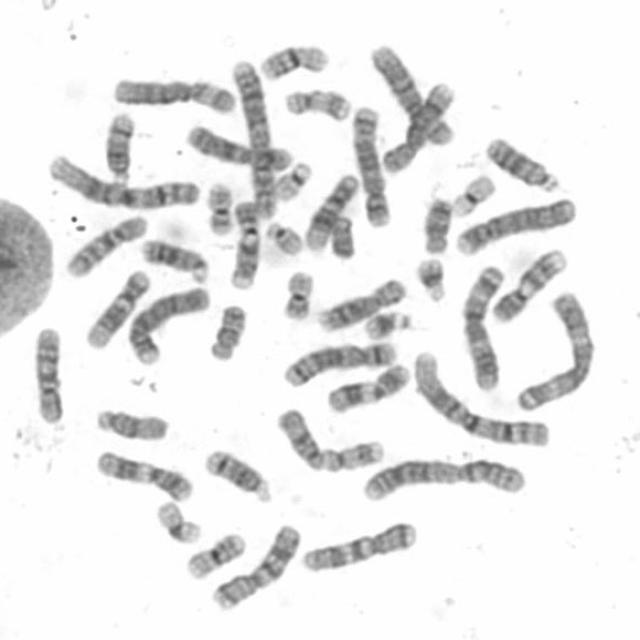A1: (406, 343, 553, 449), (40, 146, 202, 211)
A2: (354, 448, 529, 503), (224, 52, 278, 221)
A3: (509, 284, 597, 412), (454, 258, 508, 392)
B4: (448, 189, 579, 257), (120, 278, 212, 367)
B5: (276, 334, 400, 389), (345, 99, 393, 228)
C10: (57, 208, 150, 280), (26, 318, 68, 426)
C11: (88, 443, 195, 504), (320, 356, 413, 415)
C12: (78, 262, 154, 350), (298, 166, 361, 253)
C6: (363, 35, 457, 147), (105, 70, 238, 116)
C7: (204, 517, 304, 612), (294, 514, 421, 574)
C8: (374, 75, 458, 176), (310, 270, 409, 334)
C9: (486, 240, 570, 324), (222, 194, 262, 293)
D13: (479, 129, 562, 193), (134, 231, 210, 284)
D14: (198, 442, 274, 505), (96, 104, 137, 184)
D15: (268, 406, 323, 473), (88, 401, 170, 443)
E16: (179, 525, 247, 581), (253, 36, 331, 82)
E17: (277, 82, 354, 124), (314, 438, 388, 472)
E18: (202, 296, 249, 362), (416, 191, 454, 255)
F19: (444, 167, 498, 219), (149, 494, 203, 546)
F20: (274, 262, 316, 322), (199, 174, 236, 237)
G21: (408, 250, 450, 303), (357, 302, 414, 341)
G22: (267, 154, 315, 202), (258, 214, 306, 256)
X: (178, 117, 294, 170)
Y: (323, 208, 358, 260)
